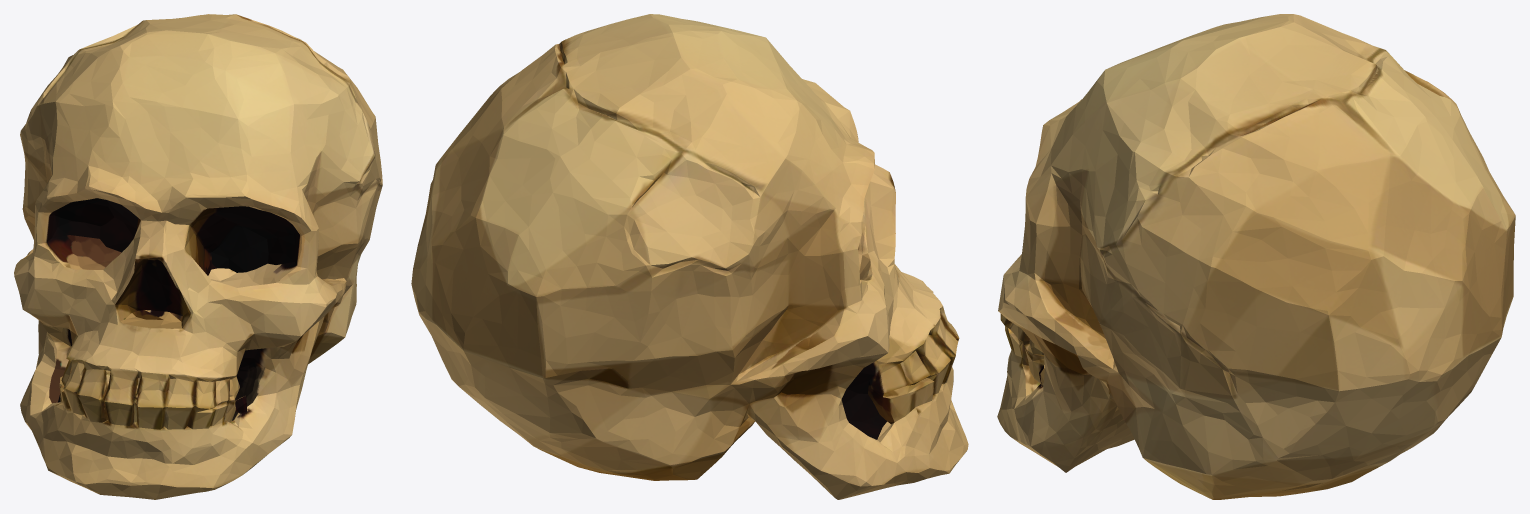
Rendered from skullhead.glb.
3 renders of one model, left to right at view 1: azimuth 30°, elevation 25°; view 2: azimuth 150°, elevation 25°; view 3: azimuth 270°, elevation 25°, orthographic. The views are drawn at different scales.
Visible parts, largest first — view 1: tmprne69o3f.ply; view 2: tmprne69o3f.ply; view 3: tmprne69o3f.ply.
Part boxes in pixels (x1,y1,x2,y2): tmprne69o3f.ply: (14,14,382,499); tmprne69o3f.ply: (411,14,968,499); tmprne69o3f.ply: (997,14,1515,499).
Bounding box in the file's own units: 1.99 × 1.9 × 1.99.
1 material, 1 textured.
